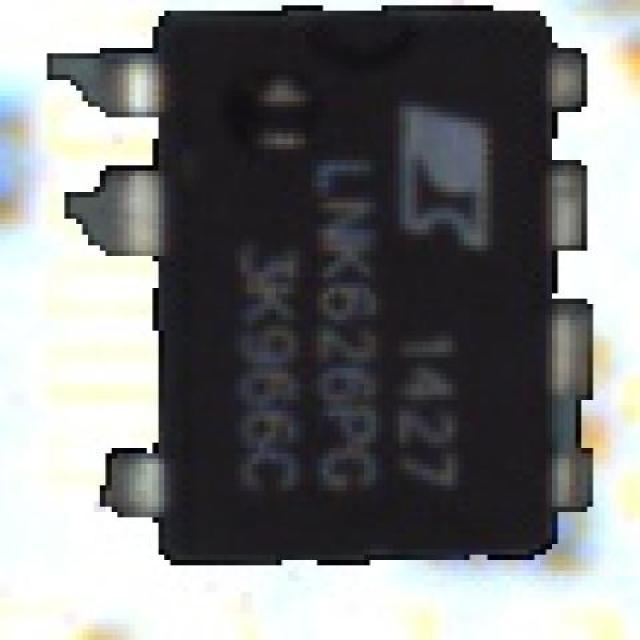IC: (112, 0, 583, 593)
